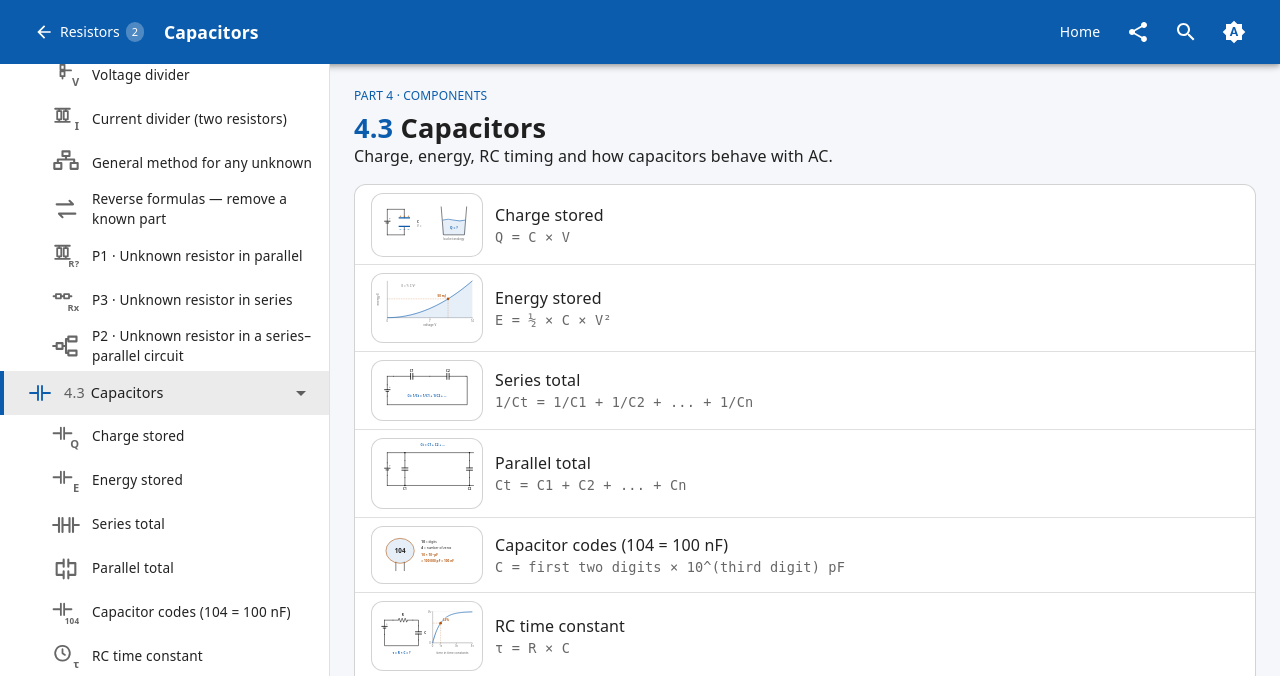
it: app bar › the example from the brief: resistors → capacitors → Back → resistors
The image size is (1280, 676).
(page scrolled)
Click the button with test id "back-button". click: (90, 32)
box: [24, 10, 156, 54]
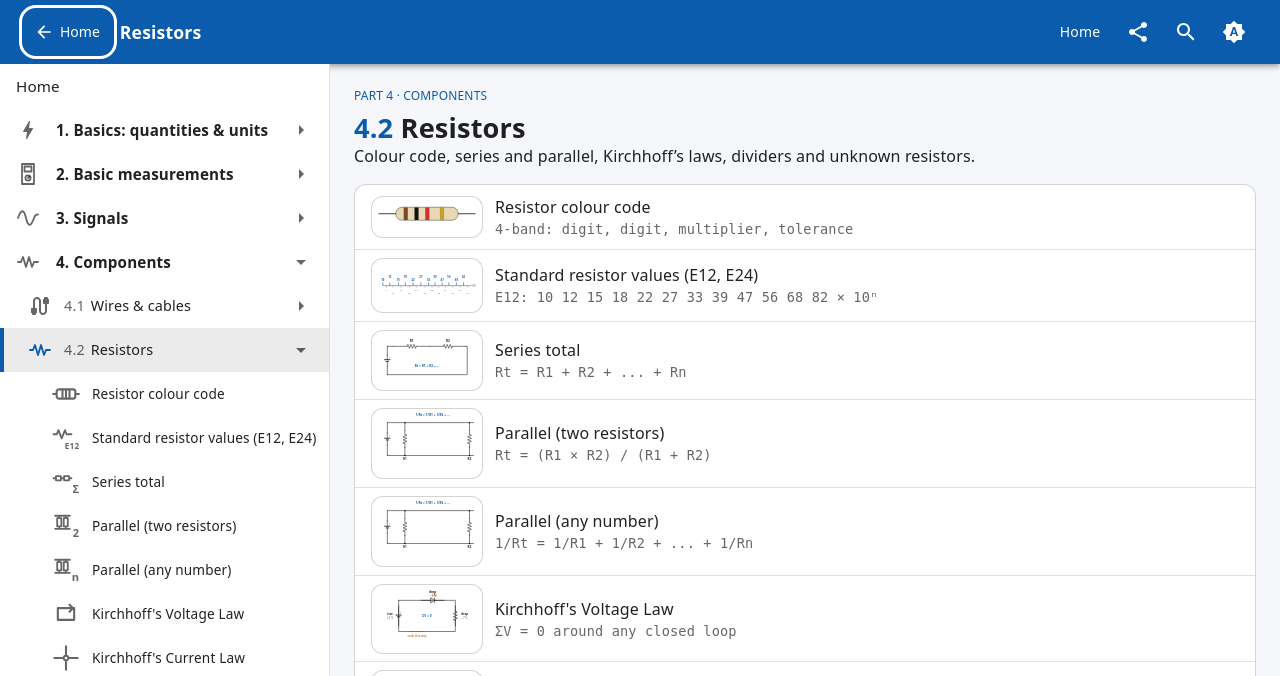
Now the heading "4.2 Resistors" is shown, box [354, 109, 526, 146]
